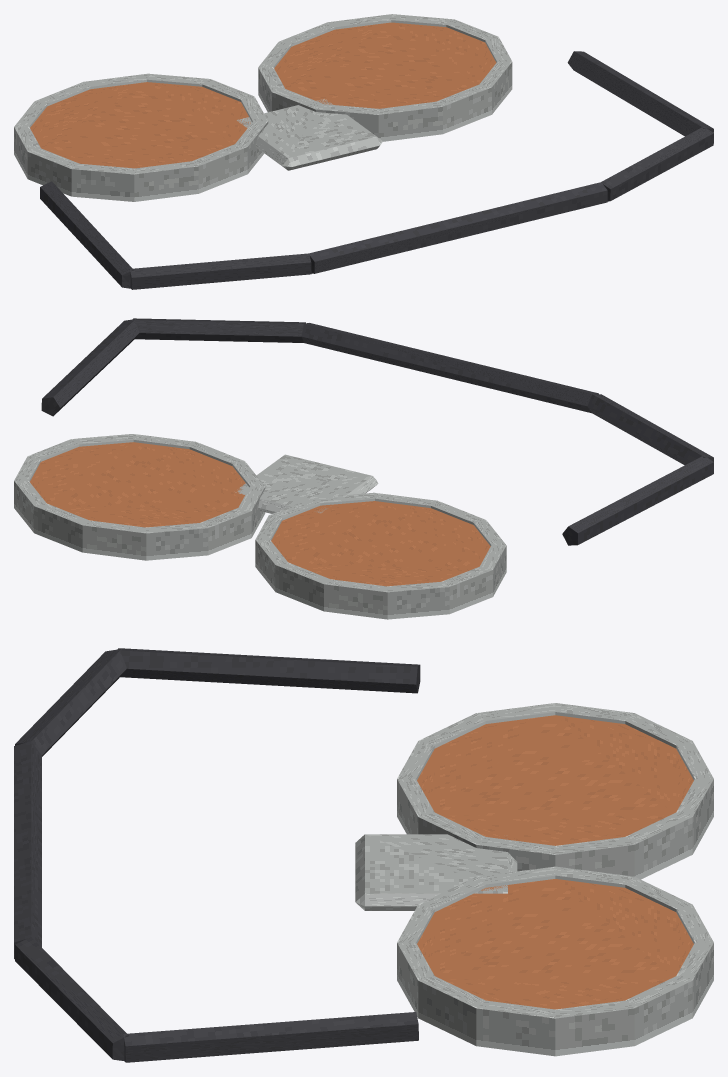
The model's file is altered_sunglasses.glb.
The picture shows the model from 3 angles, top to bottom: view 1: azimuth 30°, elevation 25°; view 2: azimuth 150°, elevation 25°; view 3: azimuth 270°, elevation 25°; orthographic projection. The views are drawn at different scales.
Visible parts, largest first — view 1: block_rounded lens (×2), block_slender lens frame (×2), block_head strap or temple pieces 2, block_frame bridge, block_head strap or temple pieces 1, block_head strap or temple pieces 4, block_head strap or temple pieces 0, block_head strap or temple pieces 3; view 2: block_rounded lens (×2), block_slender lens frame (×2), block_head strap or temple pieces 2, block_frame bridge, block_head strap or temple pieces 3, block_head strap or temple pieces 0, block_head strap or temple pieces 1, block_head strap or temple pieces 4; view 3: block_rounded lens (×2), block_slender lens frame (×2), block_frame bridge, block_head strap or temple pieces 0, block_head strap or temple pieces 4, block_head strap or temple pieces 2, block_head strap or temple pieces 3, block_head strap or temple pieces 1.
Boxes of the visible parts, x1,y1,x2,y2 form: block_rounded lens (×2): (30, 22, 496, 168); block_slender lens frame (×2): (14, 14, 512, 201); block_head strap or temple pieces 2: (308, 182, 607, 273); block_frame bridge: (237, 99, 382, 170); block_head strap or temple pieces 1: (129, 253, 311, 289); block_head strap or temple pieces 4: (567, 51, 713, 136); block_head strap or temple pieces 0: (40, 181, 133, 288); block_head strap or temple pieces 3: (601, 126, 713, 201); block_rounded lens (×2): (30, 442, 490, 586); block_slender lens frame (×2): (14, 434, 506, 619); block_head strap or temple pieces 2: (301, 323, 598, 413); block_frame bridge: (235, 454, 378, 513); block_head strap or temple pieces 3: (132, 318, 305, 342); block_head strap or temple pieces 0: (562, 455, 713, 545); block_head strap or temple pieces 1: (587, 394, 713, 465); block_head strap or temple pieces 4: (41, 319, 139, 416); block_rounded lens (×2): (417, 715, 693, 1009); block_slender lens frame (×2): (397, 703, 713, 1056); block_frame bridge: (355, 834, 517, 910); block_head strap or temple pieces 0: (116, 648, 420, 693); block_head strap or temple pieces 4: (123, 1012, 418, 1062); block_head strap or temple pieces 2: (14, 741, 41, 959); block_head strap or temple pieces 3: (15, 937, 128, 1060); block_head strap or temple pieces 1: (15, 649, 126, 756).
Size of the model in its own units: 0.1581 by 0.0113 by 0.1175.
1 material, 1 textured.
